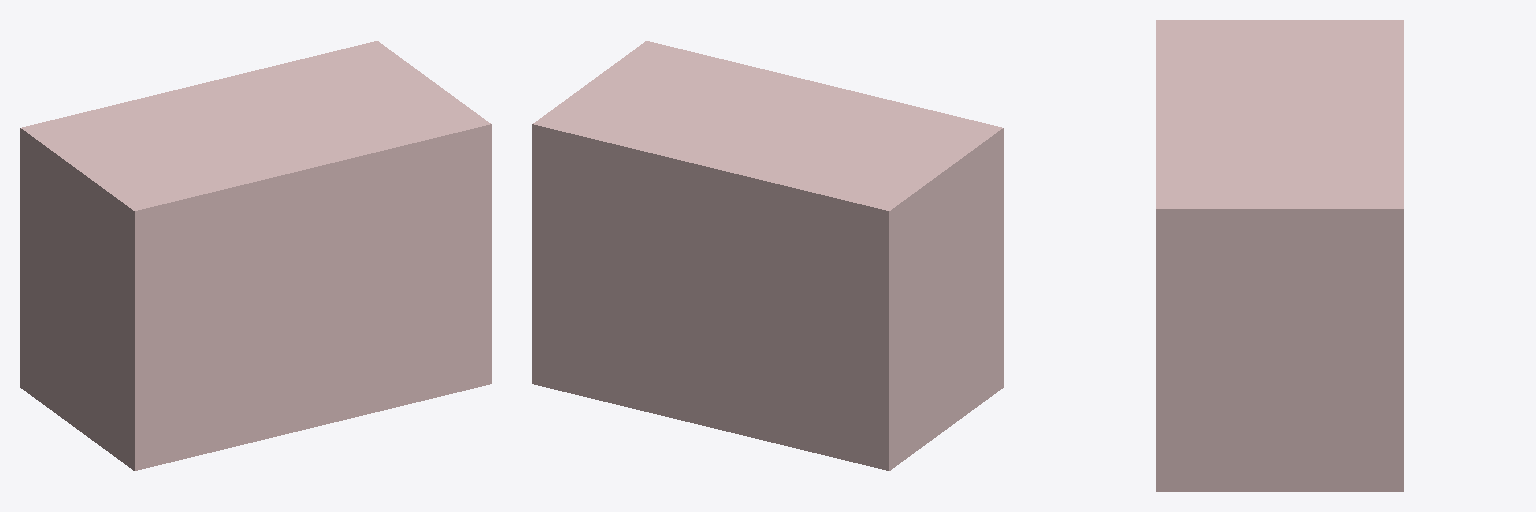
URDF robot description (box.urdf):
<?xml version="1.0" ?>
<robot name="box.urdf">
  <link name="baseLink">
    <contact>
      <lateral_friction value="1.0"/>
      <rolling_friction value="0.0001"/>
      <inertia_scaling value="3.0"/>
    </contact>
    <inertial>
      <origin rpy="0 0 0" xyz="0 0 0"/>
       <mass value="0.1"/>
       <inertia ixx="1" ixy="0" ixz="0" iyy="1" iyz="0" izz="1"/>
    </inertial>
    <visual>
      <origin rpy="0 0 0" xyz="0 0 0"/>
      <geometry>
        <!-- <box size="0.365 0.20199999999999999 0.254"/> -->
        <mesh filename="box/box.obj" scale="0.365 0.20199999999999999 0.254"/>
      </geometry>
      <material name="white">
        <color rgba="0.9 0.8 0.8 1"/>
      </material>
    </visual>
    <collision>
      <origin rpy="0 0 0" xyz="0 0 0"/>
      <geometry>
        <mesh filename="box/box.obj" scale="0.365 0.20199999999999999 0.254"/>
	 	    <!-- <box size="0.365 0.20199999999999999 0.254"/> -->
      </geometry>
    </collision>
  </link>
</robot>

--- Render facts (derived) ---
3 views of the same robot in one strip: view 1: azimuth 30°, elevation 25°; view 2: azimuth 150°, elevation 25°; view 3: azimuth 270°, elevation 25° (orthographic).
Model box.urdf with 1 links and 0 joints (none), rooted at baseLink, posed all joints at 0.
Links seen in each view (by area): view 1: baseLink; view 2: baseLink; view 3: baseLink.
Boxes of the visible links, left/top/right/bottom form: baseLink: left=20, top=41, right=491, bottom=470; baseLink: left=532, top=41, right=1003, bottom=470; baseLink: left=1156, top=20, right=1403, bottom=491.
Size in the robot's own frame: 0.365 by 0.202 by 0.254 metres.
1 mesh visuals loaded from 1 distinct referenced files (1 OBJ).
